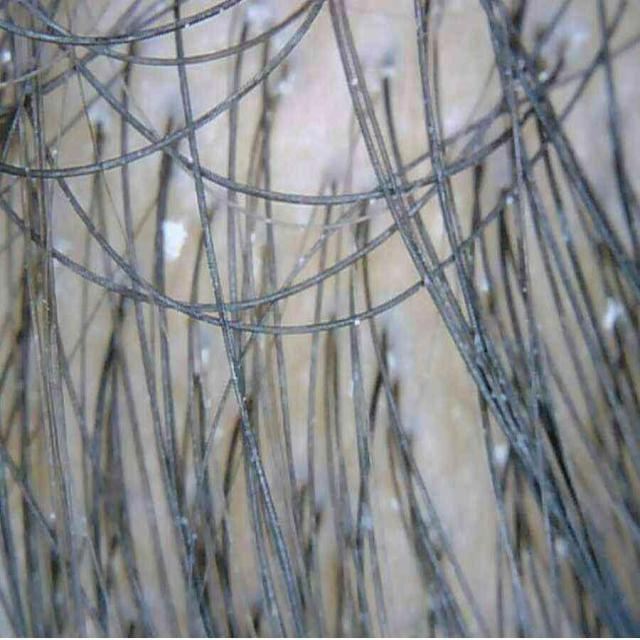d: (162, 221, 188, 260), (488, 441, 506, 464)
